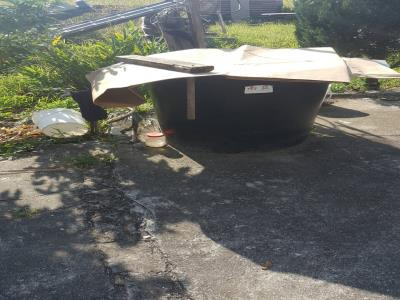bowl: (149, 72, 331, 157), (144, 131, 168, 148)
bucket: (30, 106, 91, 138)
